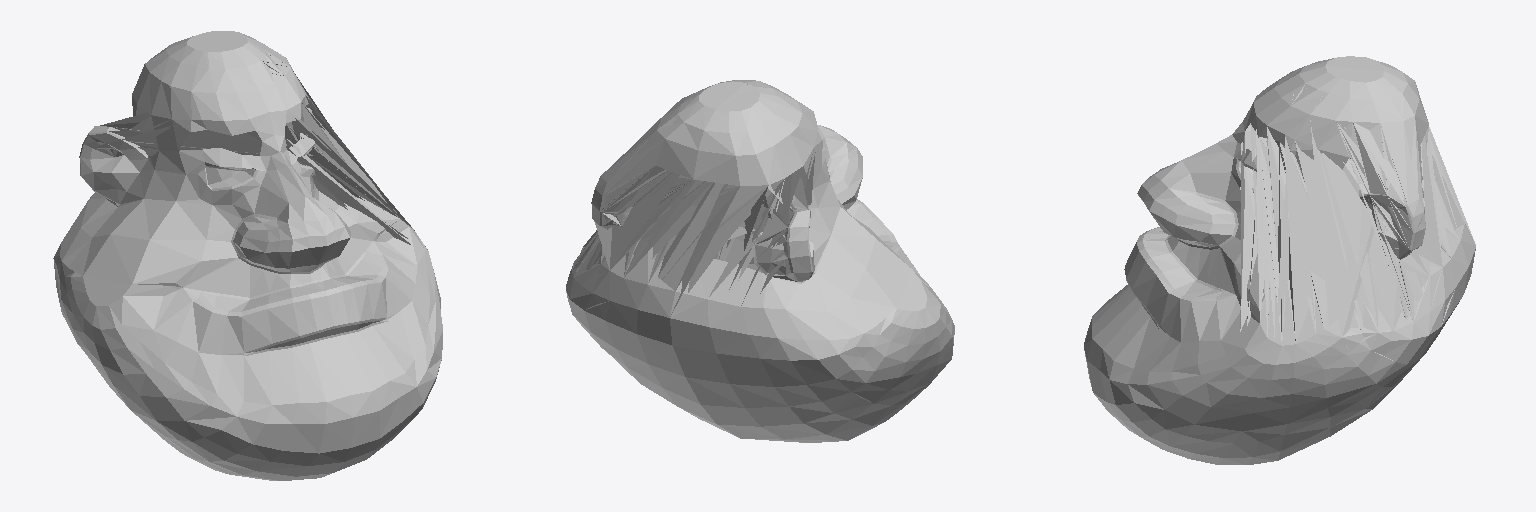
File: Al-noTexture.obj
3 renders of one model, left to right at view 1: azimuth 30°, elevation 25°; view 2: azimuth 150°, elevation 25°; view 3: azimuth 270°, elevation 25°, orthographic.
Visible parts, largest first — view 1: facial, hat, handl, coat, handr; view 2: facial, hat, handl, handr, coat, lowarml, uplegl, shoe1r, pelvis, uplegr; view 3: facial, hat, handl, handr, coat, lowarml, shoe2l, pelvis, lowarmr.
Part boxes in pixels (x1,y1,x2,y2): facial: (53,31,442,480); hat: (94,93,414,244); handl: (132,55,427,249); coat: (136,61,411,227); handr: (100,96,410,225); facial: (566,80,954,442); hat: (572,150,815,305); handl: (573,106,789,290); handr: (576,172,791,316); coat: (594,117,788,296); lowarml: (576,172,688,270); uplegl: (575,167,691,276); shoe1r: (587,181,711,282); pelvis: (574,84,747,309); uplegr: (598,139,664,195); facial: (1084,56,1475,464); hat: (1240,124,1450,349); handl: (1255,94,1464,357); handr: (1257,122,1474,342); coat: (1250,83,1425,374); lowarml: (1350,132,1442,320); shoe2l: (1381,94,1418,232); pelvis: (1375,208,1459,332); lowarmr: (1343,123,1412,319).
Size of the model in its own units: 1.65 by 1.8 by 1.69.